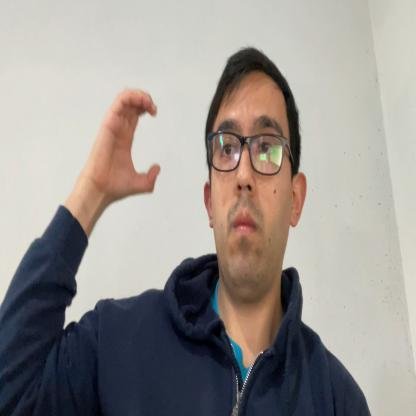C: (97, 88, 160, 198)
